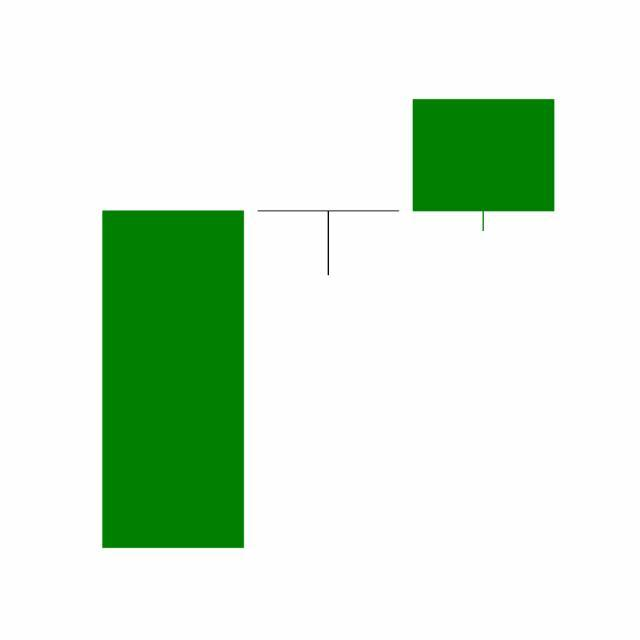Hammer: (250, 210, 407, 277)
